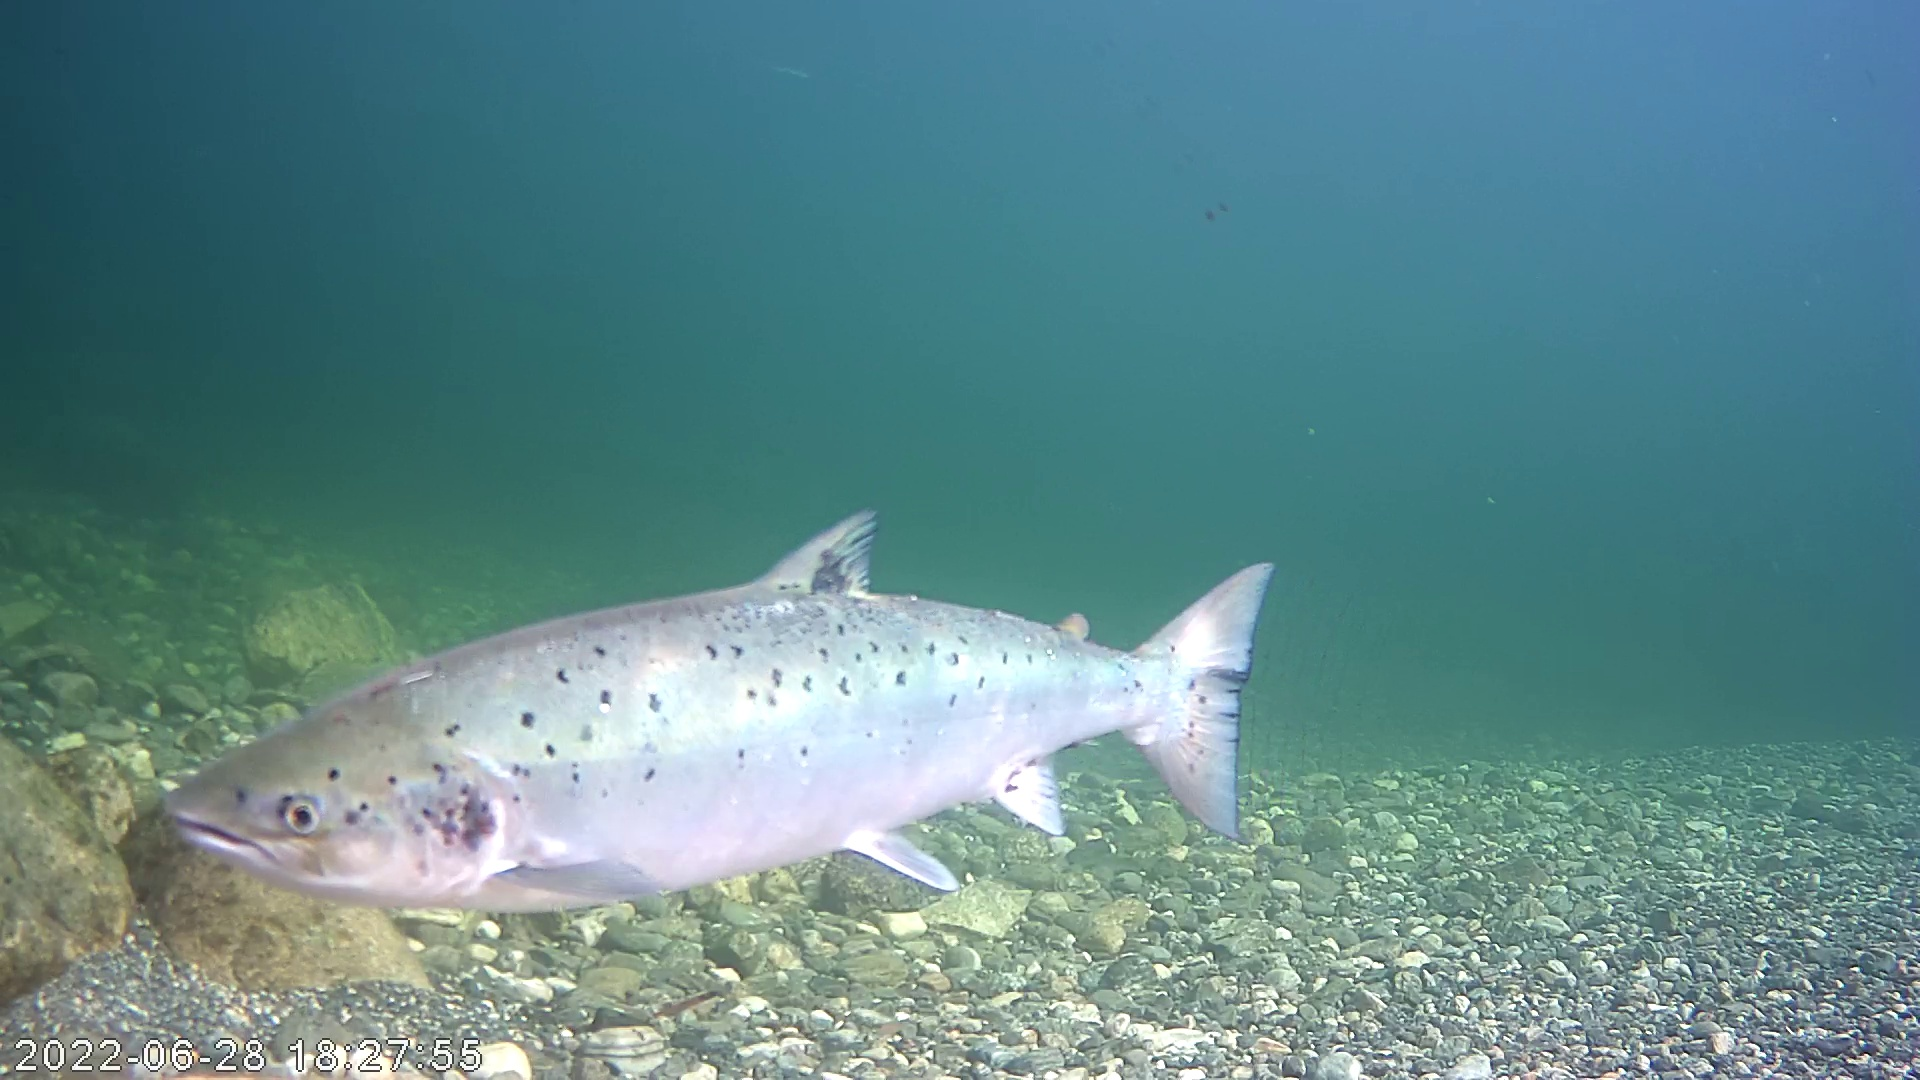salmon: (276, 431, 1303, 936)
